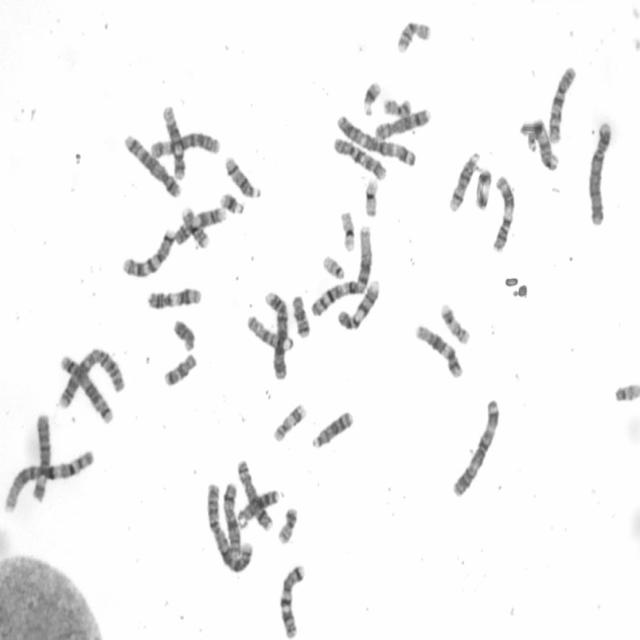A1: (308, 222, 375, 319), (1, 446, 95, 514)
A2: (204, 479, 254, 574), (56, 344, 126, 410)
A3: (449, 395, 502, 498), (332, 111, 418, 167)
B4: (584, 118, 614, 226), (262, 286, 290, 382)
B5: (56, 351, 115, 425), (122, 131, 182, 198)
C10: (331, 133, 388, 181), (546, 62, 577, 144)
C11: (490, 172, 516, 254), (145, 284, 203, 311)
C12: (413, 320, 463, 380), (159, 102, 187, 183)
C6: (148, 129, 222, 160), (29, 410, 52, 503)
C7: (119, 225, 177, 279), (276, 561, 307, 639)
C8: (235, 457, 274, 532), (372, 105, 432, 142)
C9: (335, 276, 382, 332), (173, 203, 228, 247)
D13: (235, 486, 283, 528), (309, 407, 355, 450)
D14: (446, 148, 481, 214), (223, 152, 263, 200)
D15: (245, 311, 295, 354), (534, 119, 560, 175)
E16: (394, 19, 432, 55), (180, 206, 210, 249)
E17: (271, 399, 307, 444), (438, 300, 472, 347)
E18: (160, 350, 198, 388), (290, 291, 312, 340)
F19: (337, 207, 357, 253), (362, 175, 380, 218)
F20: (275, 504, 300, 546), (381, 95, 413, 118)
G21: (360, 78, 383, 118), (218, 189, 246, 216)
G22: (320, 251, 346, 281), (612, 380, 640, 403)
X: (222, 481, 242, 562)
Y: (170, 317, 196, 352)
